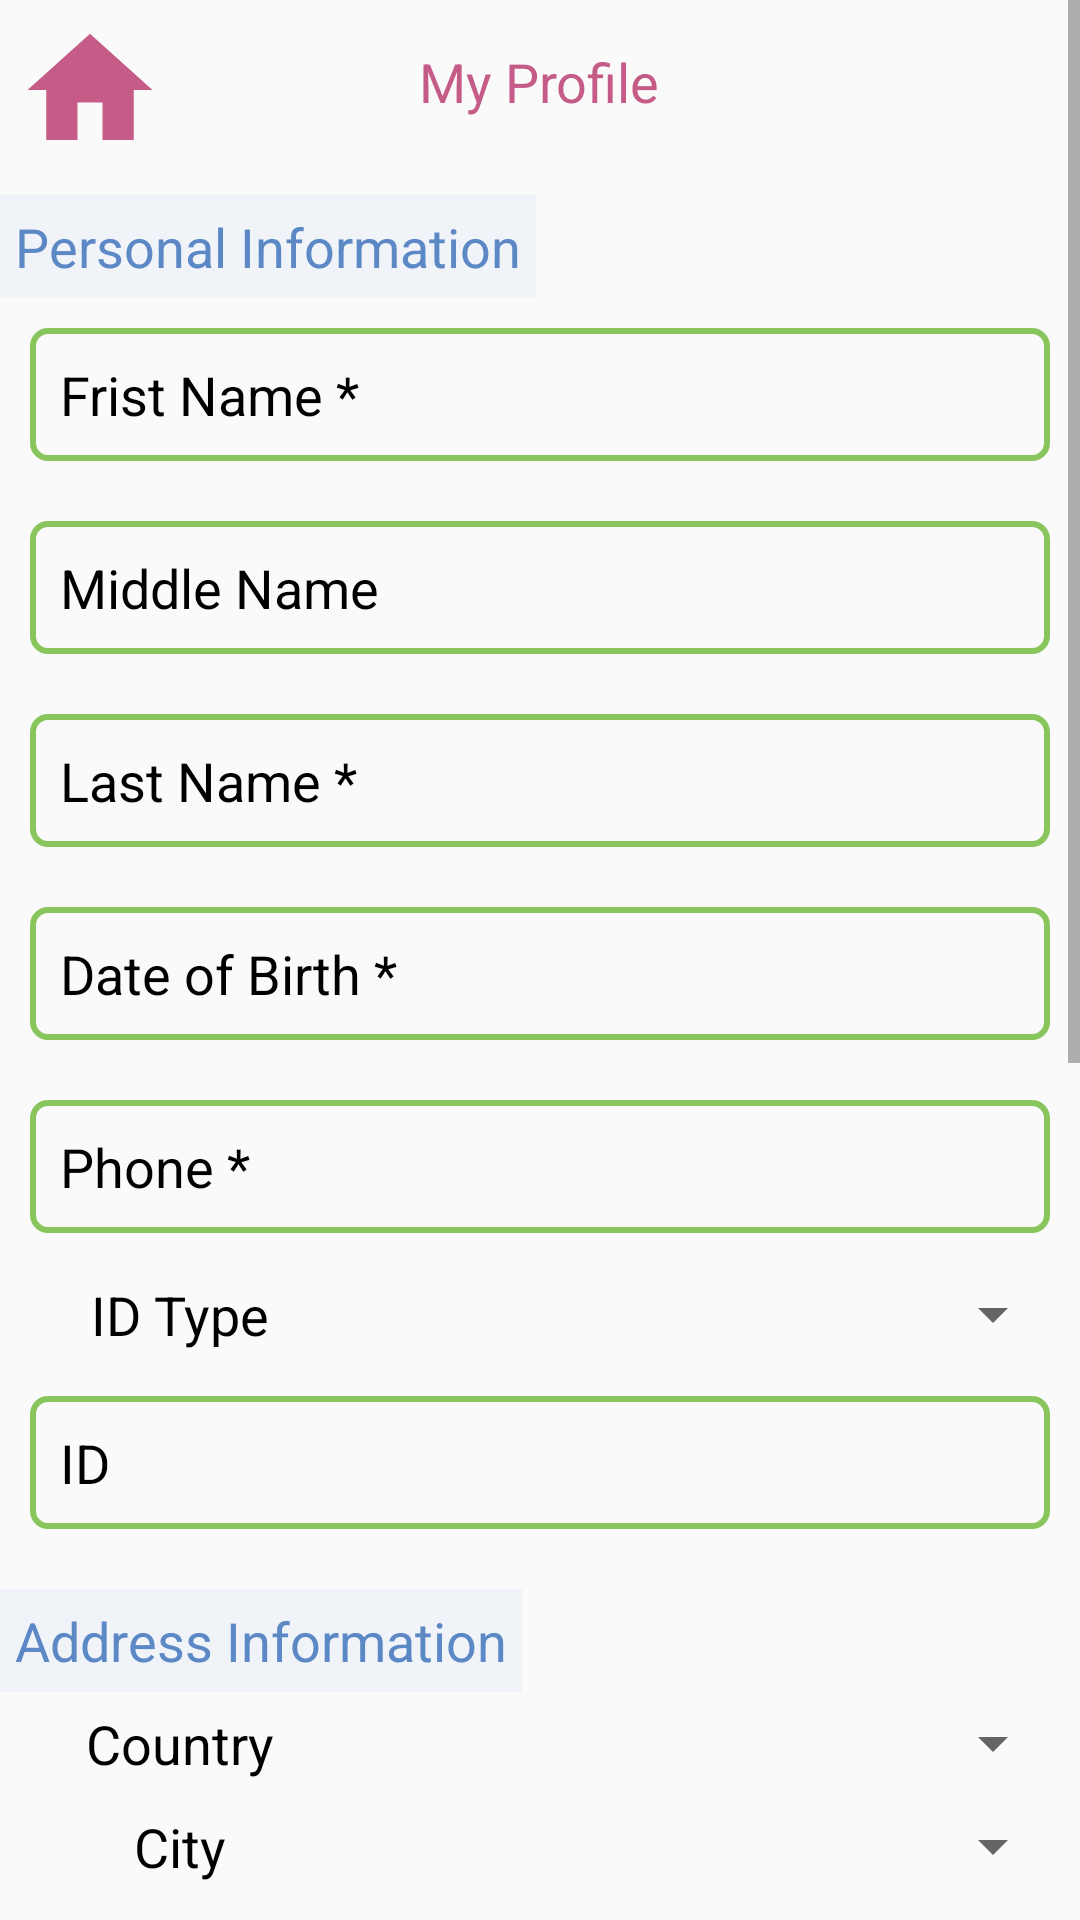

Icon bounding boxes for this 1080x1920 phone screenshot, format (x1, y1, x2, y2):
home page: (28, 34, 152, 140)
